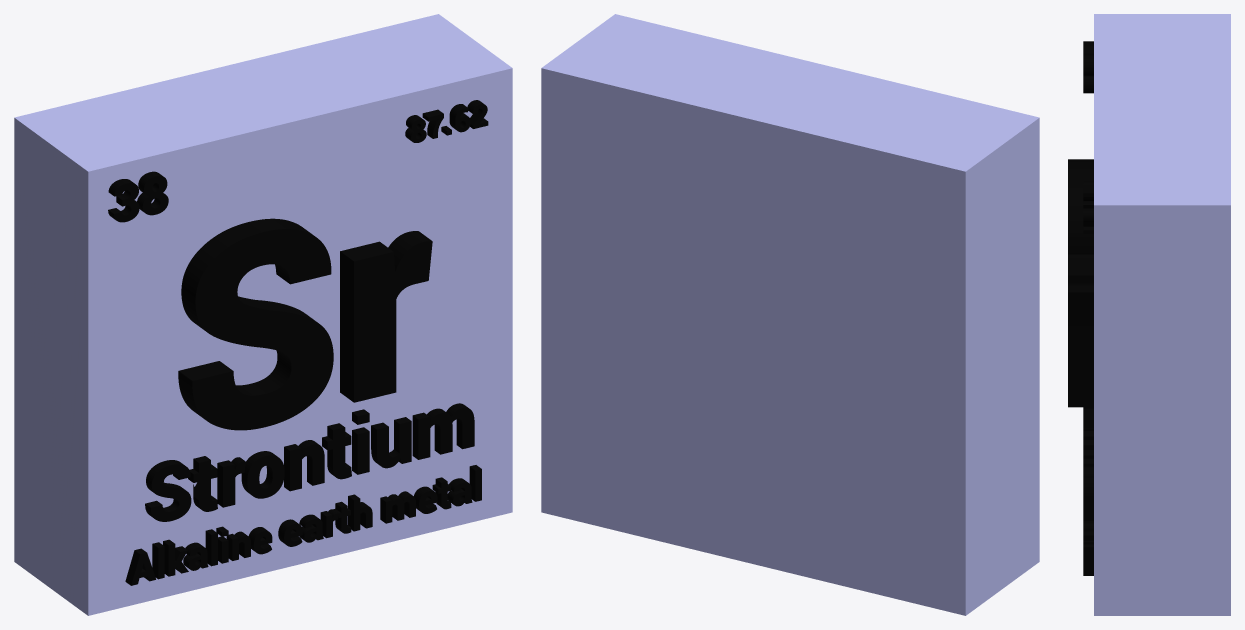
3 views of the same model, side by side, from view 1: azimuth 30°, elevation 25°; view 2: azimuth 150°, elevation 25°; view 3: azimuth 270°, elevation 25° (orthographic). The views are drawn at different scales.
Parts seen in each view (by area): view 1: Cube, Text, Text.001, Text.002, Text.003, Text.004; view 2: Cube; view 3: Cube, Text, Text.001, Text.002, Text.004, Text.003.
Boxes of the visible parts, <box> form: Cube: <box>14,14,512,615</box>; Text: <box>178,218,432,430</box>; Text.001: <box>145,403,474,521</box>; Text.002: <box>125,465,481,585</box>; Text.003: <box>108,171,168,222</box>; Text.004: <box>405,100,488,142</box>; Cube: <box>541,14,1039,615</box>; Cube: <box>1094,14,1230,615</box>; Text: <box>1068,159,1093,407</box>; Text.001: <box>1083,407,1093,521</box>; Text.002: <box>1083,521,1093,575</box>; Text.004: <box>1083,180,1093,233</box>; Text.003: <box>1083,41,1093,93</box>.
Bounding box in the file's own units: 178 × 178 × 63.95.
